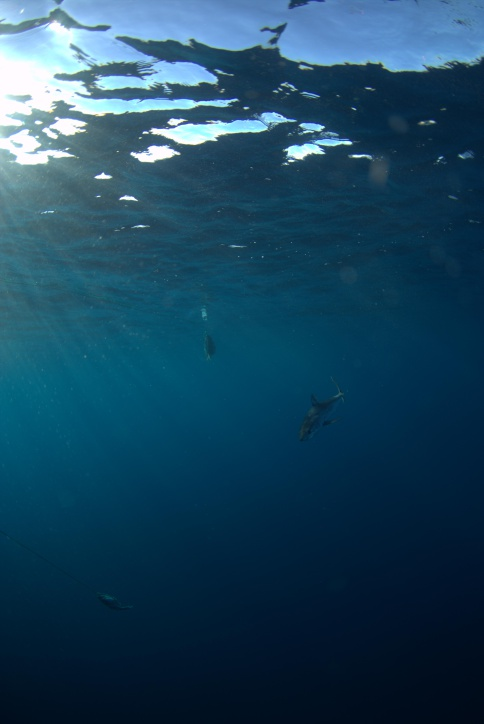Mako: (288, 371, 360, 460)
